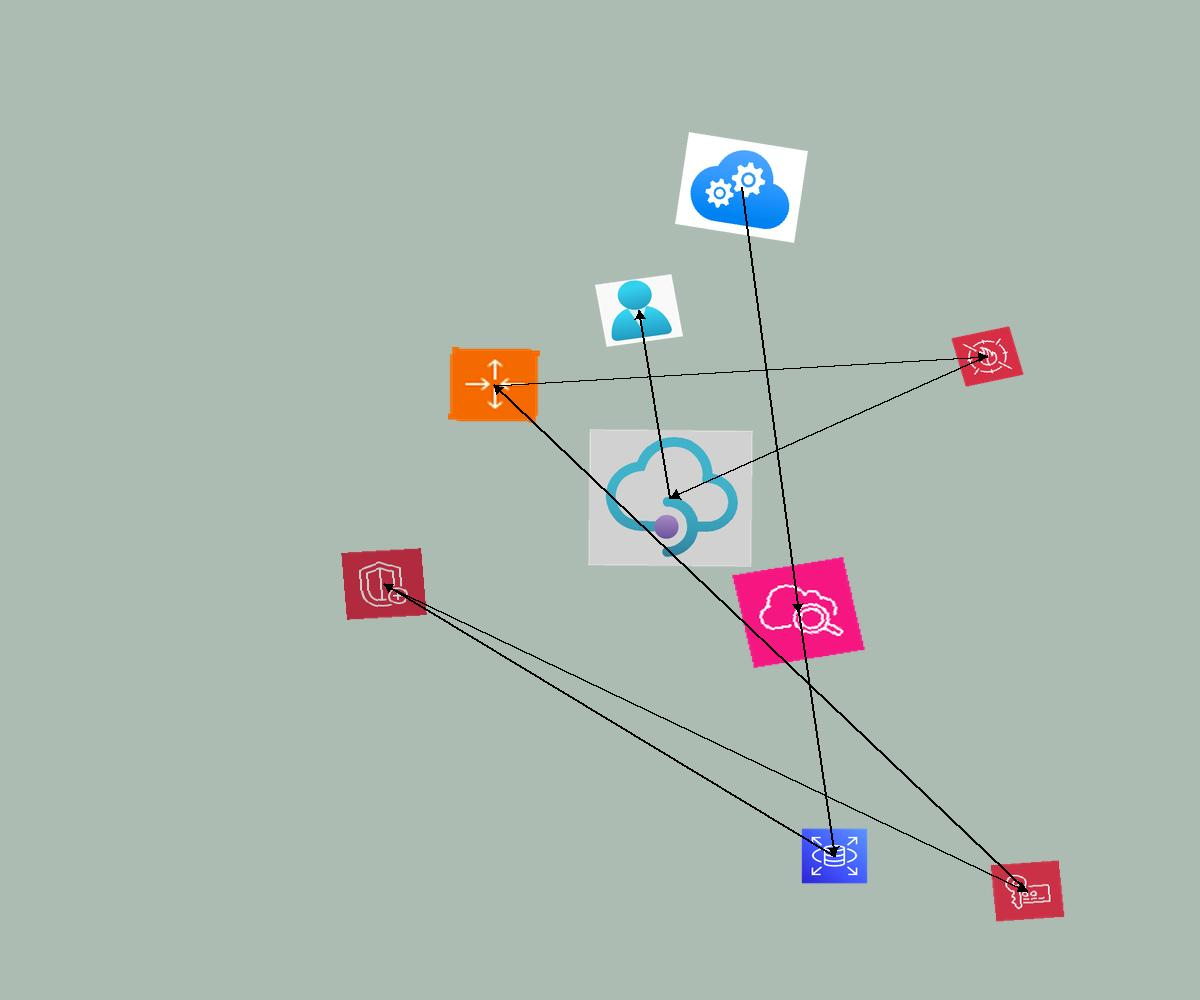AWS-CloudWatch: (731, 556, 866, 669)
AWS-Key-Management-Service: (990, 860, 1065, 922)
AWS-RDS: (801, 828, 868, 884)
AWS-Scaling-group: (448, 347, 540, 423)
AWS-Shield: (341, 548, 427, 620)
AWS-WAF: (951, 326, 1024, 387)
Azure_api_gateway: (588, 429, 753, 567)
Azure_cloud_services: (675, 132, 808, 243)
Azure_users: (595, 274, 683, 347)
